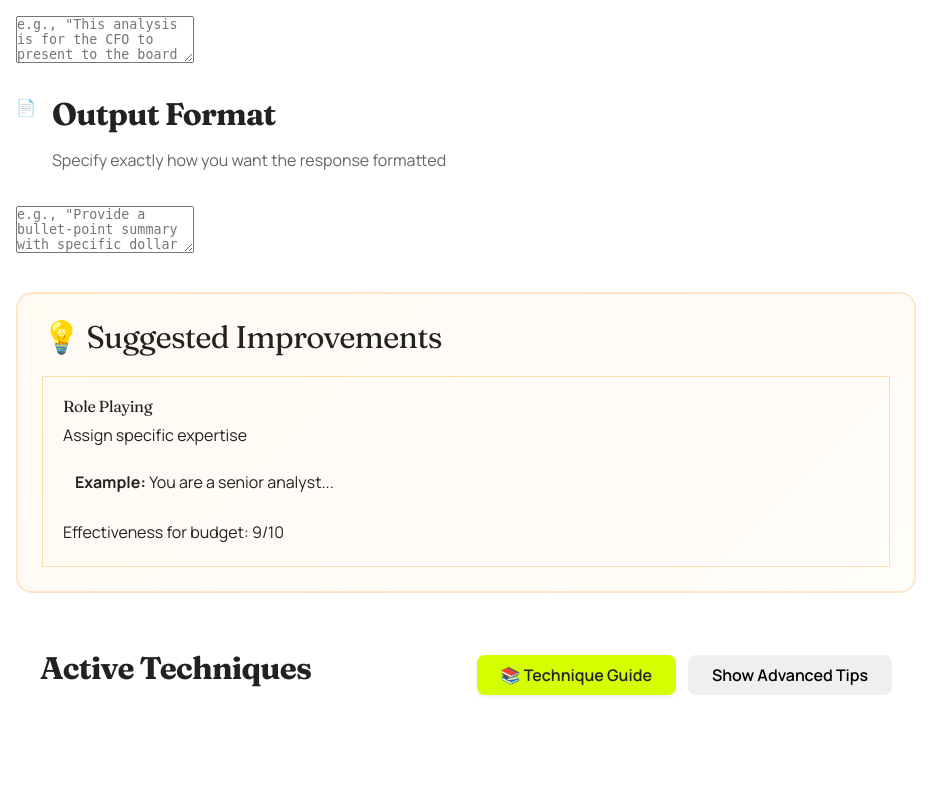
Test: AdaptivePromptBuilder › filters techniques by category effectiveness
(page scrolled)
Click the button "Show Advanced Tips" at (790, 675), box x1=688 y1=655 x2=892 y2=695
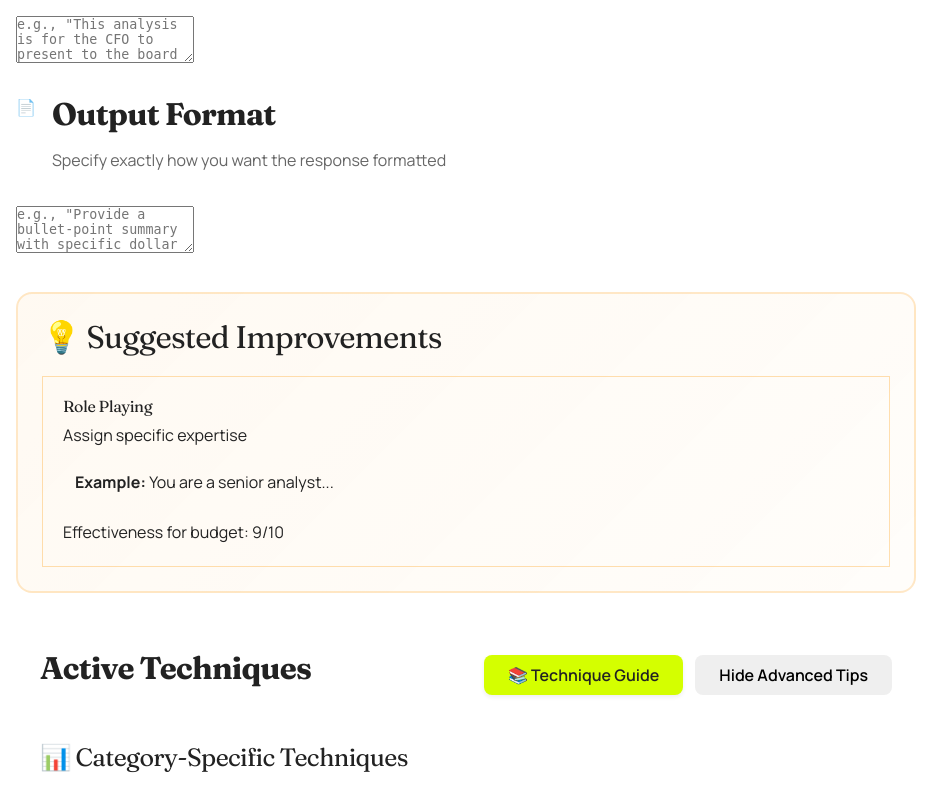
Expected: the heading "📊 Category-Specific Techniques" is shown, x1=40 y1=742 x2=408 y2=772
